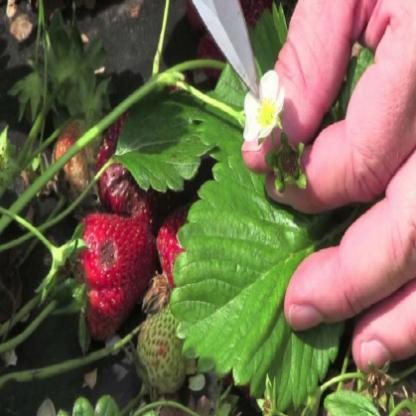Strawberry_Anthracnose_Fruit_Rot: (93, 232, 123, 274)
